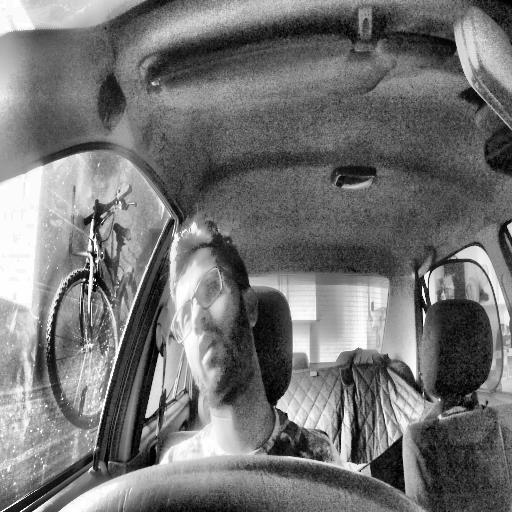drowsy: (169, 218, 261, 412)
